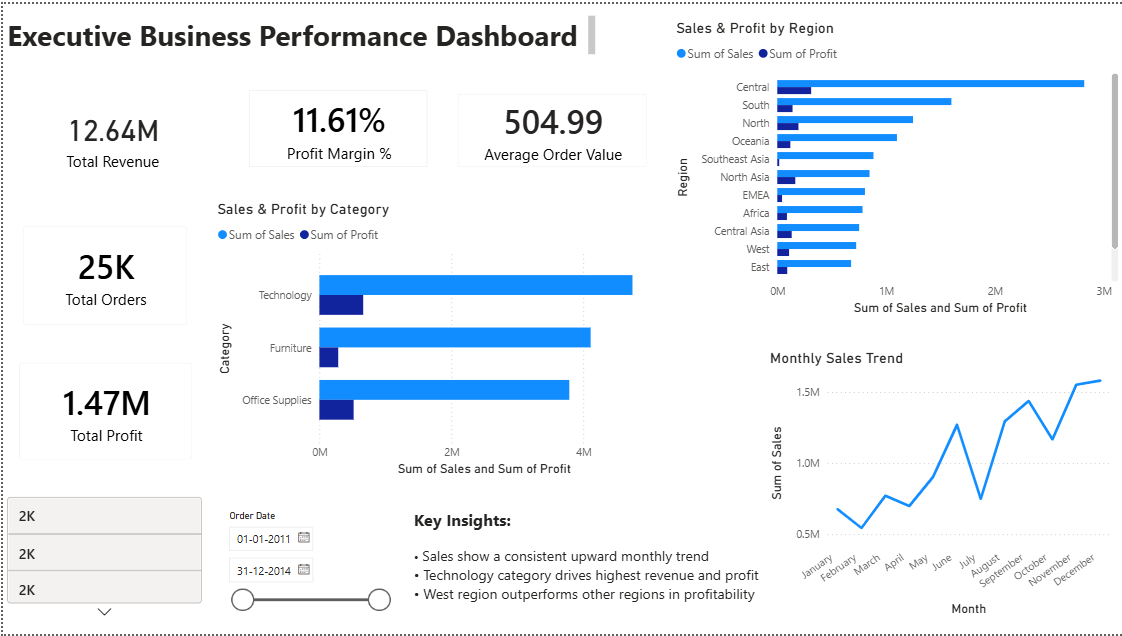

The dashboard page shown, as its layout file describes it:
{"tool":"powerbi","page":{"name":"Page 1","canvas":[1280,720],"ordinal":0},"visuals":[{"type":"card","fields":{"Values":["Global_Superstore2.Total Revenue"]},"box":[5.7,81.4,240,142.9],"z":0},{"type":"cardVisual","fields":{"Data":["Global_Superstore2.Total Profit"]},"box":[1.4,392.9,232.9,145.7],"z":1000},{"type":"cardVisual","fields":{"Data":["Global_Superstore2.Profit Margin %"]},"box":[264.3,81.4,238.6,122.9],"z":2000},{"type":"cardVisual","fields":{"Data":["Global_Superstore2.Total Orders"]},"box":[5.7,237.1,222.9,147.1],"z":3000},{"type":"cardVisual","fields":{"Data":["Global_Superstore2.Average Order Value"]},"box":[502.9,85.7,250,118.6],"z":4000},{"type":"cardVisual","fields":{"Rows":["Global_Superstore2.Order Date.Variation.Date Hierarchy.Year"]},"box":[0,538.6,232.9,171.4],"z":5000},{"type":"lineChart","title":"Monthly Sales Trend","fields":{"Category":["Global_Superstore2.Order Date.Variation.Date Hierarchy.Month"],"Y":["Sum(Global_Superstore2.Sales)"]},"box":[871.4,394.3,398.6,310],"z":6000},{"type":"clusteredBarChart","title":"Sales & Profit by Category","fields":{"Category":["Global_Superstore2.Category"],"Y":["Sum(Global_Superstore2.Sales)","Sum(Global_Superstore2.Profit)"]},"box":[240,224.3,512.9,320],"z":7000},{"type":"clusteredBarChart","title":"Sales & Profit by Region","fields":{"Category":["Global_Superstore2.Region"],"Y":["Sum(Global_Superstore2.Sales)","Sum(Global_Superstore2.Profit)"]},"box":[764.3,17.1,515.7,342.9],"z":8000},{"type":"slicer","title":"Order Date","fields":{"Values":["Global_Superstore2.Order Date"]},"box":[245.7,572.9,205.7,131.4],"z":9000},{"type":"textbox","box":[464.3,571.4,407.1,138.6],"z":10000},{"type":"textbox","box":[0,8.6,681.4,61.4],"z":11000}]}

Visuals, with their boxes in screenshot pixels (x1, y1, x2, y2), scaled from the page's 1280x720 canvas onto the 1122x636 screenshot:
card - Global_Superstore2.Total Revenue: (x1=5, y1=72, x2=215, y2=198)
cardVisual - Global_Superstore2.Total Profit: (x1=1, y1=347, x2=205, y2=476)
cardVisual - Global_Superstore2.Profit Margin %: (x1=232, y1=72, x2=441, y2=180)
cardVisual - Global_Superstore2.Total Orders: (x1=5, y1=209, x2=200, y2=339)
cardVisual - Global_Superstore2.Average Order Value: (x1=441, y1=76, x2=660, y2=180)
cardVisual - Global_Superstore2.Order Date.Variation.Date Hierarchy.Year: (x1=0, y1=476, x2=204, y2=627)
"Monthly Sales Trend" lineChart: (x1=764, y1=348, x2=1113, y2=622)
"Sales & Profit by Category" clusteredBarChart: (x1=210, y1=198, x2=660, y2=481)
"Sales & Profit by Region" clusteredBarChart: (x1=670, y1=15, x2=1121, y2=318)
"Order Date" slicer: (x1=215, y1=506, x2=396, y2=622)
textbox: (x1=407, y1=505, x2=764, y2=627)
textbox: (x1=0, y1=8, x2=597, y2=62)
